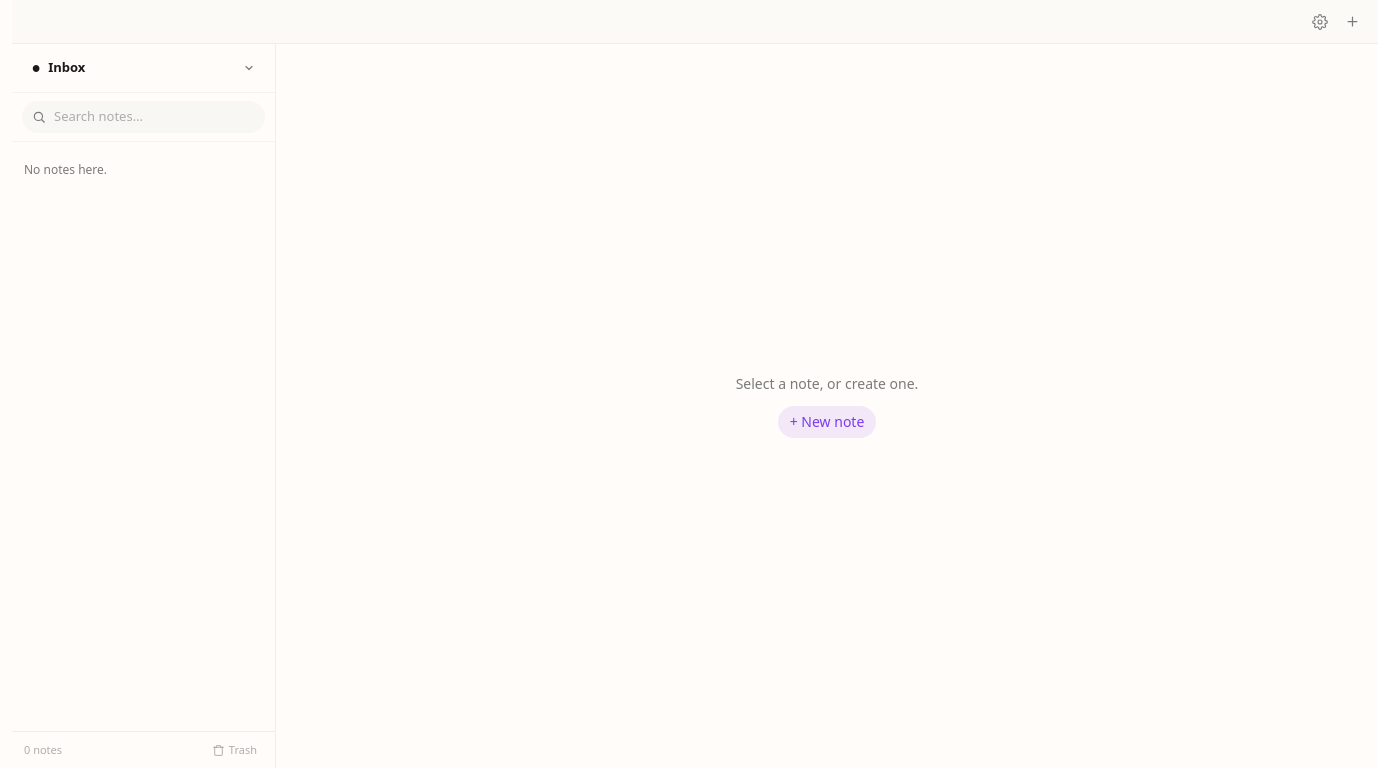
full editor persistence › keeps the newest folder listing when an older request finishes later
The width and height of the screenshot is (1378, 768).
Click the button "● Inbox" at point(144, 68), box x1=22 y1=52 x2=265 y2=84
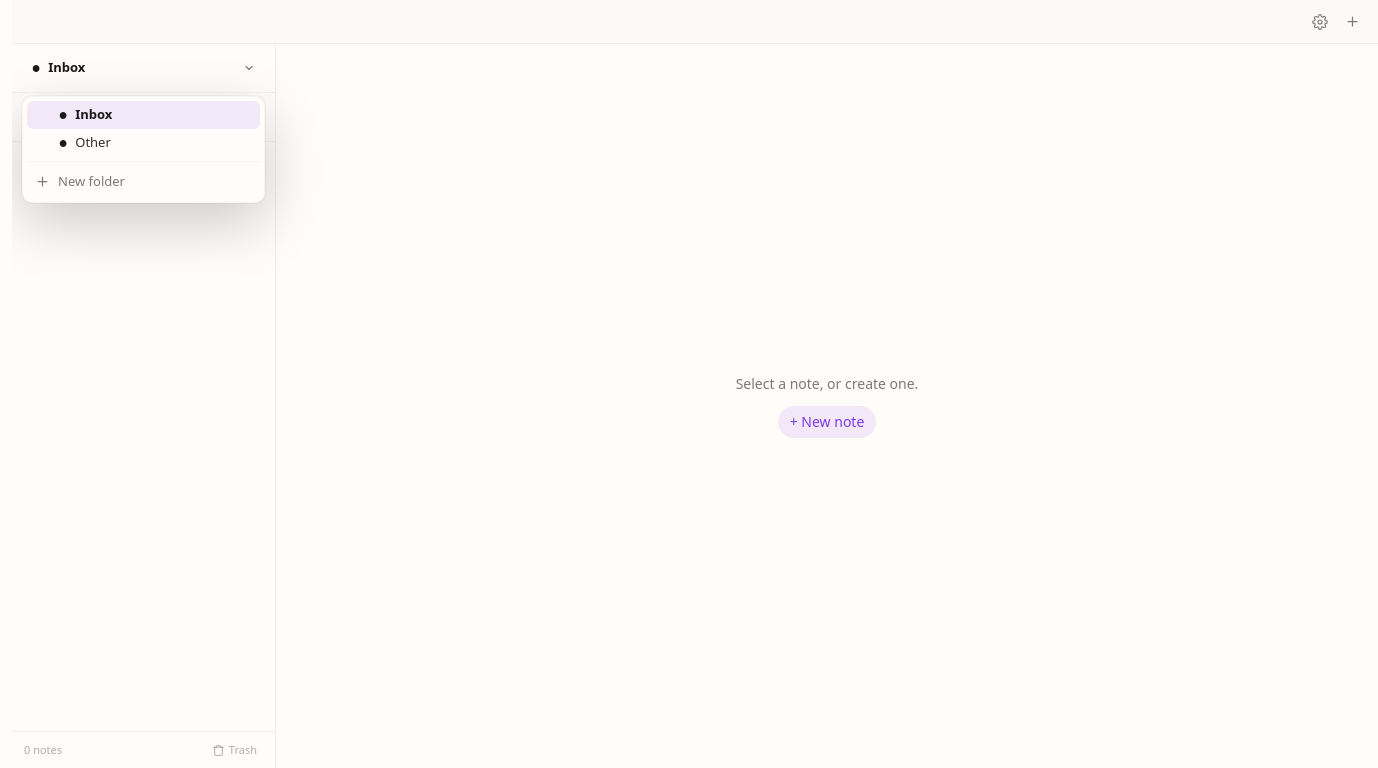
Click the button "● Other" at point(130, 143), box x1=59 y1=133 x2=200 y2=153
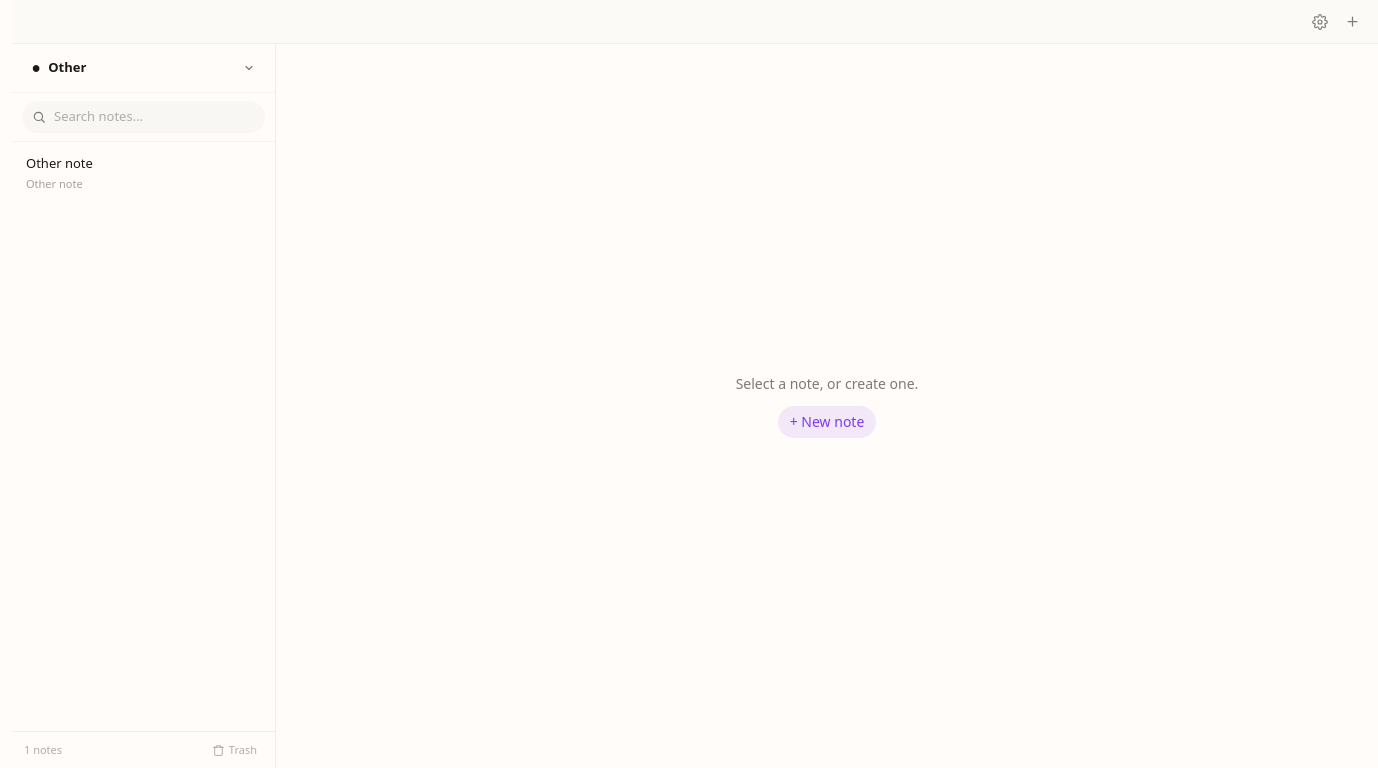
Expected: the button "Other note Other note" is shown, x1=14 y1=146 x2=275 y2=200
